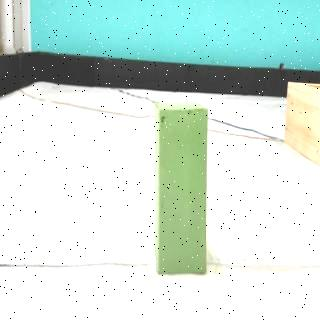greenbox: (152, 98, 210, 276)
